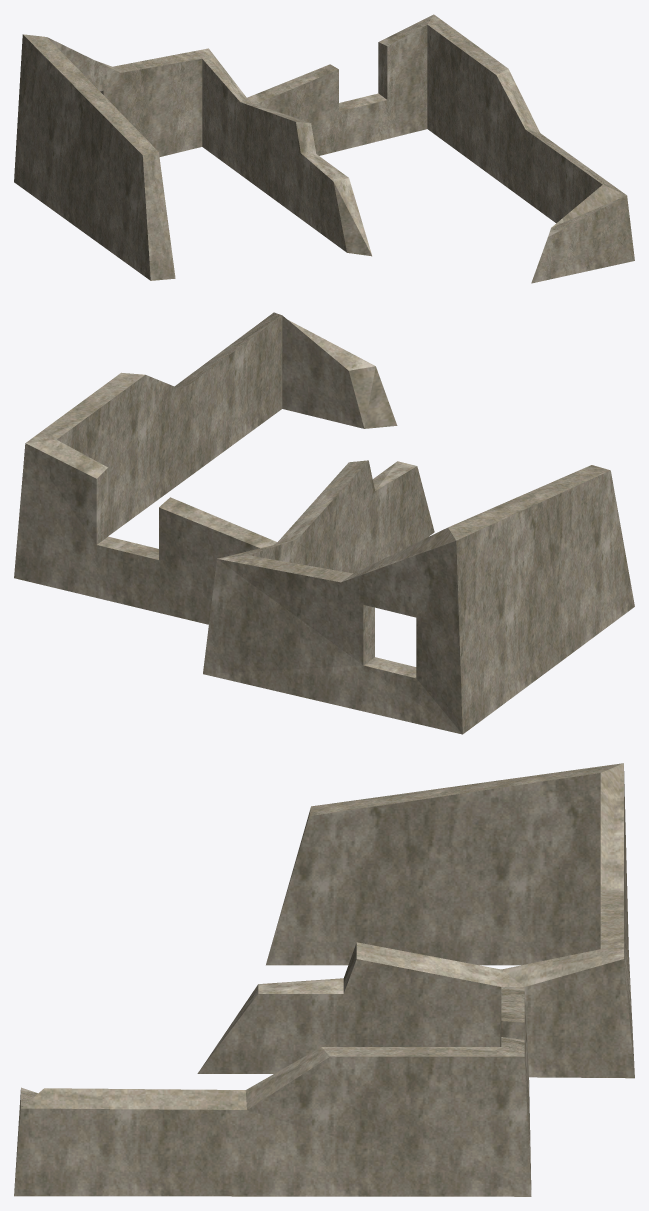
File: des_pueblo06.obj
3 views of the same model, one above another, from view 1: azimuth 30°, elevation 25°; view 2: azimuth 150°, elevation 25°; view 3: azimuth 270°, elevation 25° (orthographic). The views are drawn at different scales.
Parts seen in each view (by area): view 1: des_pueblo06; view 2: des_pueblo06; view 3: des_pueblo06.
Part boxes in pixels (bbox=[...]): des_pueblo06: bbox=[14, 14, 634, 283]; des_pueblo06: bbox=[14, 312, 634, 734]; des_pueblo06: bbox=[14, 763, 634, 1196].
Bounding box in the file's own units: 8.84 × 3.23 × 9.45.
1 material, 1 textured.
